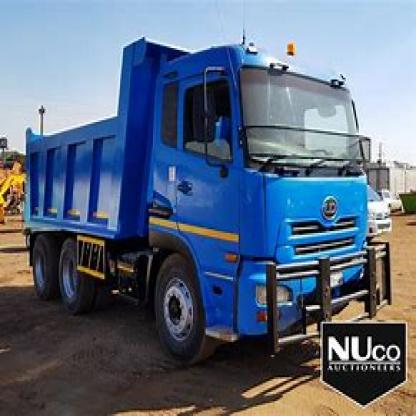dump_truck: (13, 22, 400, 385)
